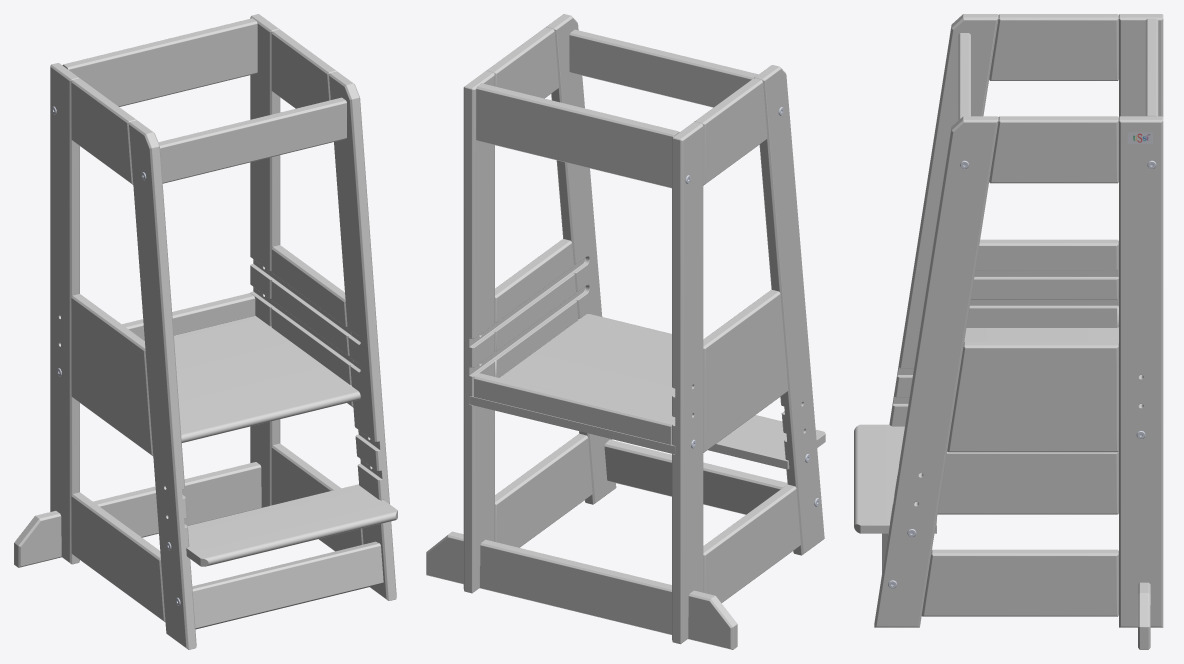
File: Lernturm_Felix_Tower_Basic_Static_Wood_White_c.glb
The picture shows the model from 3 angles, left to right: view 1: azimuth 30°, elevation 25°; view 2: azimuth 150°, elevation 25°; view 3: azimuth 270°, elevation 25°; orthographic projection. The views are drawn at different scales.
Visible parts, largest first — view 1: Lernturm_Felix_Tower; view 2: Lernturm_Felix_Tower; view 3: Lernturm_Felix_Tower.
Boxes of the visible parts, x1,y1,x2,y2 form: Lernturm_Felix_Tower: (14,14,397,649); Lernturm_Felix_Tower: (426,14,825,649); Lernturm_Felix_Tower: (854,14,1163,649).
Size of the model in its own units: 0.56 by 0.88 by 0.4959.
4 materials, 2 textured.
